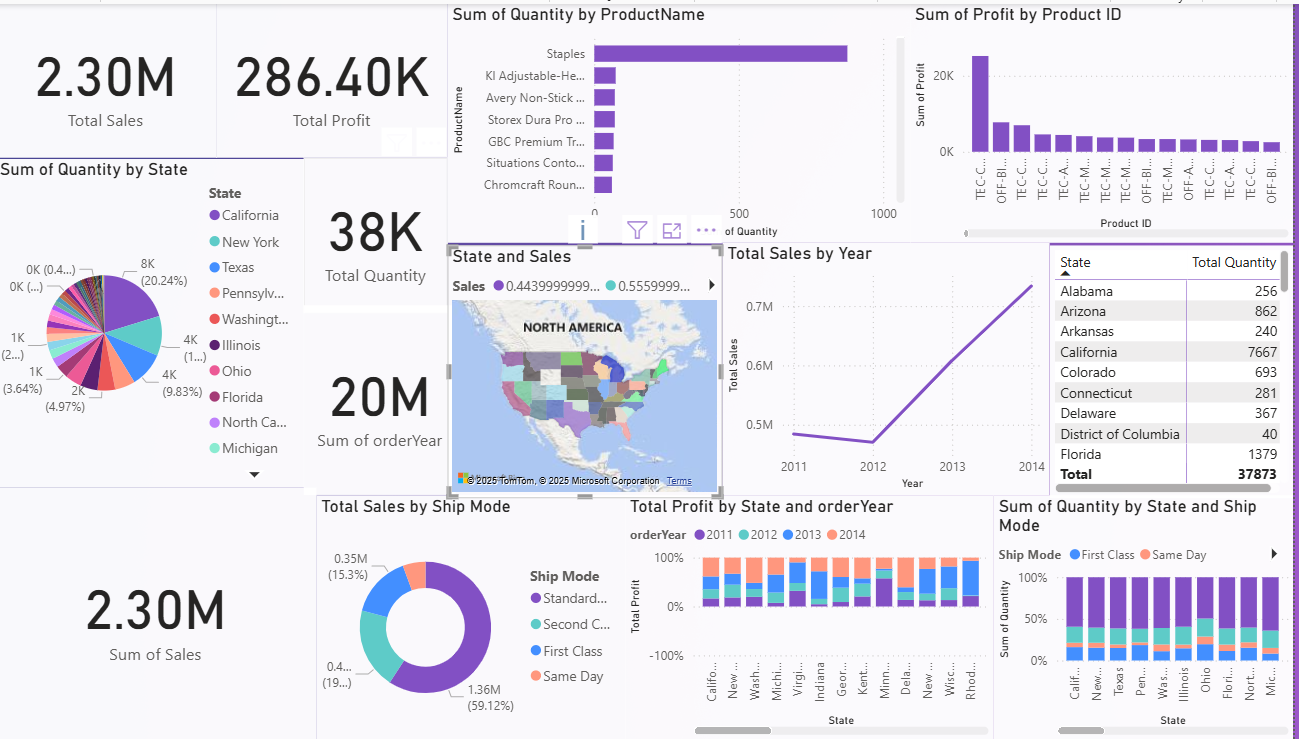

Layout of this report page (visuals, bound fields, positions):
{"tool":"powerbi","page":{"name":"Page 1","canvas":[1280,720],"ordinal":0},"visuals":[{"type":"card","fields":{"Values":["Orders.Total Sales"]},"box":[9.8,0,216.4,150.4],"z":0},{"type":"card","fields":{"Values":["Orders.Total Quantity"]},"box":[311.8,150.4,140.6,151.6],"z":1000},{"type":"card","fields":{"Values":["Orders.Total Profit"]},"box":[226.2,0,226.2,150.4],"z":2000},{"type":"lineChart","fields":{"Category":["Orders.OrderDate.Variation.Date Hierarchy.Year","Orders.OrderDate.Variation.Date Hierarchy.Quarter","Orders.OrderDate.Variation.Date Hierarchy.Month","Orders.OrderDate.Variation.Date Hierarchy.Day"],"Y":["Orders.Total Sales"]},"box":[721.5,233.6,320.4,247],"z":3000},{"type":"clusteredBarChart","fields":{"Category":["Orders.ProductName"],"Y":["Sum(Orders.Quantity)"]},"box":[452.4,0,452.4,233.6],"z":4000},{"type":"pivotTable","fields":{"Rows":["Orders.State"],"Values":["Orders.Total Quantity"]},"box":[1041.9,236,238.5,247],"z":5000},{"type":"pieChart","fields":{"Y":["Sum(Orders.Quantity)"],"Category":["Orders.State"]},"box":[9.8,151.6,302,321.6],"z":6000},{"type":"filledMap","fields":{"Category":["Orders.State"],"Series":["Orders.Sales"]},"box":[452.4,236,269,247],"z":7000},{"type":"clusteredColumnChart","fields":{"Category":["Orders.Product ID"],"Y":["Sum(Orders.Profit)"]},"box":[904.9,0,375.4,233.6],"z":8000},{"type":"card","fields":{"Values":["Sum(Orders.Sales)"]},"box":[9.8,473.2,314.3,247],"z":9000},{"type":"hundredPercentStackedColumnChart","fields":{"Category":["Orders.State"],"Y":["Orders.Total Profit"],"Series":["Orders.orderYear"]},"box":[626.1,480.6,360.7,239.7],"z":10000},{"type":"donutChart","fields":{"Category":["Orders.Ship Mode"],"Y":["Orders.Total Sales"]},"box":[324.1,480.6,302,239.7],"z":11000},{"type":"hundredPercentStackedColumnChart","fields":{"Y":["Sum(Orders.Quantity)"],"Category":["Orders.State"],"Series":["Orders.Ship Mode"]},"box":[986.8,480.6,293.5,239.7],"z":12000},{"type":"card","fields":{"Values":["Sum(Orders.orderYear)"]},"box":[311.8,294.7,149.2,185.9],"z":12001}]}

Visuals, with their boxes in screenshot pixels (x1, y1, x2, y2), scaled from the page's 1280x720 canvas onto the 1299x739 screenshot:
card - Orders.Total Sales: (x1=10, y1=0, x2=230, y2=154)
card - Orders.Total Quantity: (x1=316, y1=154, x2=459, y2=310)
card - Orders.Total Profit: (x1=230, y1=0, x2=459, y2=154)
lineChart - Orders.OrderDate.Variation.Date Hierarchy.Year x Orders.OrderDate.Variation.Date Hierarchy.Quarter: (x1=732, y1=240, x2=1057, y2=493)
clusteredBarChart - Orders.ProductName x Sum(Orders.Quantity): (x1=459, y1=0, x2=918, y2=240)
pivotTable - Orders.State x Orders.Total Quantity: (x1=1057, y1=242, x2=1298, y2=496)
pieChart - Sum(Orders.Quantity) x Orders.State: (x1=10, y1=156, x2=316, y2=486)
filledMap - Orders.State x Orders.Sales: (x1=459, y1=242, x2=732, y2=496)
clusteredColumnChart - Orders.Product ID x Sum(Orders.Profit): (x1=918, y1=0, x2=1298, y2=240)
card - Sum(Orders.Sales): (x1=10, y1=486, x2=329, y2=738)
hundredPercentStackedColumnChart - Orders.State x Orders.Total Profit: (x1=635, y1=493, x2=1001, y2=738)
donutChart - Orders.Ship Mode x Orders.Total Sales: (x1=329, y1=493, x2=635, y2=738)
hundredPercentStackedColumnChart - Sum(Orders.Quantity) x Orders.State: (x1=1001, y1=493, x2=1298, y2=738)
card - Sum(Orders.orderYear): (x1=316, y1=302, x2=468, y2=493)
